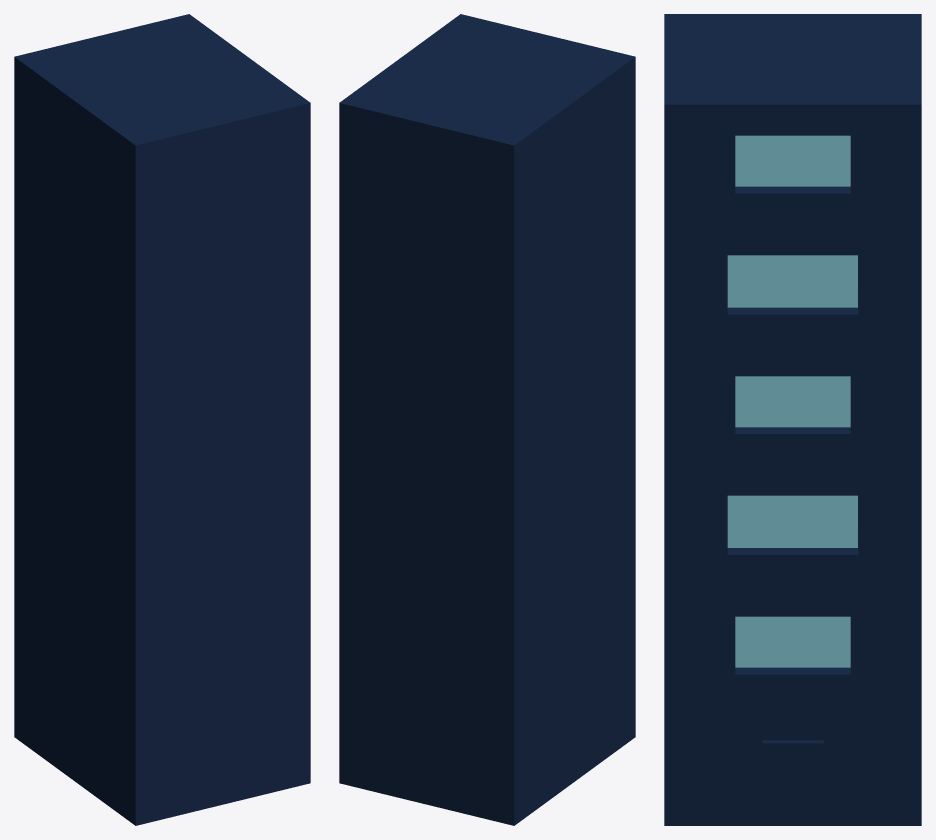
Rendered from FlatBuildingTW.fbx.
3 renders of one model, left to right at view 1: azimuth 30°, elevation 25°; view 2: azimuth 150°, elevation 25°; view 3: azimuth 270°, elevation 25°, orthographic. The views are drawn at different scales.
Parts seen in each view (by area): view 1: Cube; view 2: Cube; view 3: Cube, Cube.001.
Part boxes in pixels (left/top/right/bottom): Cube: left=14, top=14, right=310, bottom=825; Cube: left=339, top=14, right=635, bottom=825; Cube: left=664, top=14, right=921, bottom=825; Cube.001: left=727, top=135, right=857, bottom=667.
Bounding box in the file's own units: 372 × 1338 × 433.
